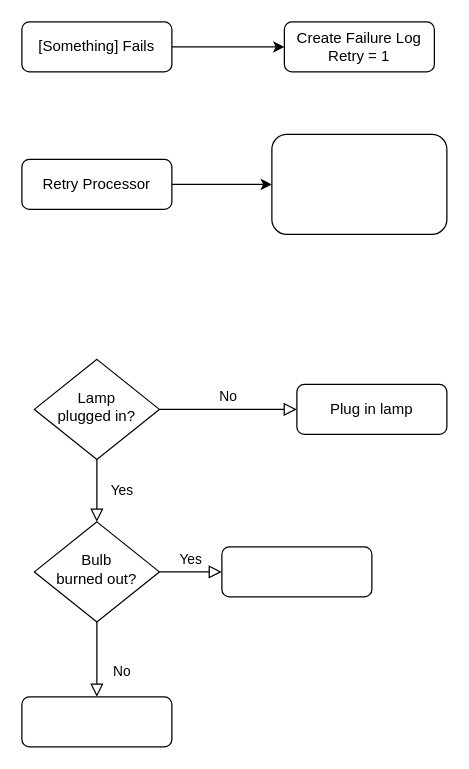
Some shapes in this 469 by 769 pixel diagram are drawn without their labels. The centre of each missing label's shape, as x and y in pixels:
"Get Retries FailureLogs.Where(Rety == 1)" belongs at point (359, 183).
"Repair Lamp" belongs at point (96, 721).
"Replace Bulb" belongs at point (296, 571).
